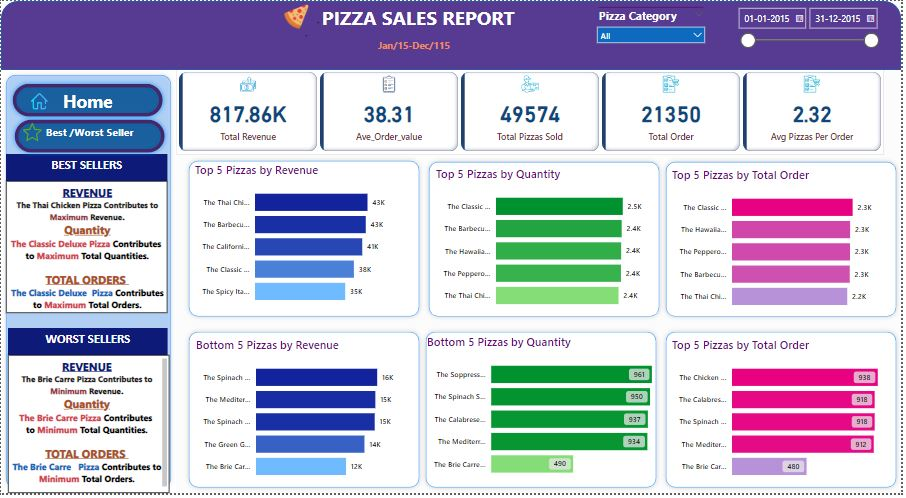

What the dashboard file says about the page in this screenshot:
{"tool":"powerbi","page":{"name":"Best /Worst Seller ","canvas":[1500,820],"ordinal":4},"visuals":[{"type":"cardVisual","fields":{"Data":["pizza_sales.Total Revenue","pizza_sales.Ave_Order_value","pizza_sales.Total Pizzas Sold","pizza_sales.Total Order","pizza_sales.Avg Pizzas Per Order"]},"box":[292,114,1180,142],"z":0},{"type":"shape","box":[0,0,1500,115],"z":1000},{"type":"textbox","box":[491.7,0,389.6,93.8],"z":2000},{"type":"textbox","box":[606.2,58.3,162.5,43.8],"z":3000},{"type":"image","box":[437.5,0,108.3,52.1],"z":4000},{"type":"shape","box":[305,259.1,400.2,275.5],"z":5000},{"type":"shape","box":[0,115,291.7,705],"z":6000},{"type":"textbox","box":[8,255,269,46.7],"z":7000},{"type":"textbox","box":[8.2,300.1,269,219.8],"z":8000},{"type":"textbox","box":[11.5,544.5,265.7,45.9],"z":9000},{"type":"textbox","box":[11.5,590.4,269,229.6],"z":10000},{"type":"slicer","fields":{"Values":["pizza_sales.pizza_category"]},"box":[983.3,5,200,110],"z":11000},{"type":"slicer","fields":{"Values":["pizza_sales.order_date"]},"box":[1216.7,1.7,255,91.7],"z":12000},{"type":"shape","box":[705.2,260.8,400.2,273.9],"z":13000},{"type":"shape","box":[1099.8,260.8,400.2,273.9],"z":14000},{"type":"shape","box":[305,542.8,400.2,275.5],"z":15000},{"type":"shape","box":[700.3,542.8,400.2,275.5],"z":16000},{"type":"shape","box":[1099.8,542.8,400.2,275.5],"z":17000},{"type":"barChart","title":"Top 5 Pizzas by Revenue","fields":{"Category":["pizza_sales.pizza_name"],"Y":["pizza_sales.Total Revenue"]},"box":[318.2,269,369,250.9],"z":18000},{"type":"barChart","title":"Bottom 5 Pizzas by Revenue","fields":{"Category":["pizza_sales.pizza_name"],"Y":["pizza_sales.Total Revenue"]},"box":[319.8,559.2,369,250.9],"z":19000},{"type":"barChart","title":"Top 5 Pizzas by Quantity","fields":{"Category":["pizza_sales.pizza_name"],"Y":["pizza_sales.Total Pizzas Sold"]},"box":[720.3,274.2,368.4,251.1],"z":20000},{"type":"barChart","title":"Bottom 5 Pizzas by Quantity","fields":{"Category":["pizza_sales.pizza_name"],"Y":["pizza_sales.Total Pizzas Sold"]},"box":[704.7,555.1,395.7,252],"z":21000},{"type":"barChart","title":"Top 5 Pizzas by Total Order","fields":{"Category":["pizza_sales.pizza_name"],"Y":["pizza_sales.Total Order"]},"box":[1113.6,277.2,369,250.9],"z":22000},{"type":"barChart","title":"Top 5 Pizzas by Total Order","fields":{"Category":["pizza_sales.pizza_name"],"Y":["pizza_sales.Total Order"]},"box":[1113.6,559.2,369,250.9],"z":23000},{"type":"actionButton","box":[11.5,129.6,265.7,70.5],"z":23001},{"type":"image","box":[0,147.6,127.9,37.7],"z":23002},{"type":"actionButton","box":[14.8,190.2,265.7,70.5],"z":23003},{"type":"image","box":[31.2,195.2,41,47.6],"z":23004}]}

Visuals, with their boxes in screenshot pixels (x1, y1, x2, y2), scaled from the page's 1500x820 canvas onto the 906x498 screenshot:
cardVisual - pizza_sales.Total Revenue x pizza_sales.Ave_Order_value: select_region(176, 69, 889, 155)
shape: select_region(0, 0, 905, 70)
textbox: select_region(297, 0, 532, 57)
textbox: select_region(366, 35, 464, 62)
image: select_region(264, 0, 330, 32)
shape: select_region(184, 157, 426, 325)
shape: select_region(0, 70, 176, 497)
textbox: select_region(5, 155, 167, 183)
textbox: select_region(5, 182, 167, 316)
textbox: select_region(7, 331, 167, 359)
textbox: select_region(7, 359, 169, 497)
slicer - pizza_sales.pizza_category: select_region(594, 3, 715, 70)
slicer - pizza_sales.order_date: select_region(735, 1, 889, 57)
shape: select_region(426, 158, 668, 325)
shape: select_region(664, 158, 905, 325)
shape: select_region(184, 330, 426, 497)
shape: select_region(423, 330, 665, 497)
shape: select_region(664, 330, 905, 497)
"Top 5 Pizzas by Revenue" barChart: select_region(192, 163, 415, 316)
"Bottom 5 Pizzas by Revenue" barChart: select_region(193, 340, 416, 492)
"Top 5 Pizzas by Quantity" barChart: select_region(435, 167, 658, 319)
"Bottom 5 Pizzas by Quantity" barChart: select_region(426, 337, 665, 490)
"Top 5 Pizzas by Total Order" barChart: select_region(673, 168, 895, 321)
"Top 5 Pizzas by Total Order" barChart: select_region(673, 340, 895, 492)
actionButton: select_region(7, 79, 167, 122)
image: select_region(0, 90, 77, 113)
actionButton: select_region(9, 116, 169, 158)
image: select_region(19, 119, 44, 147)
